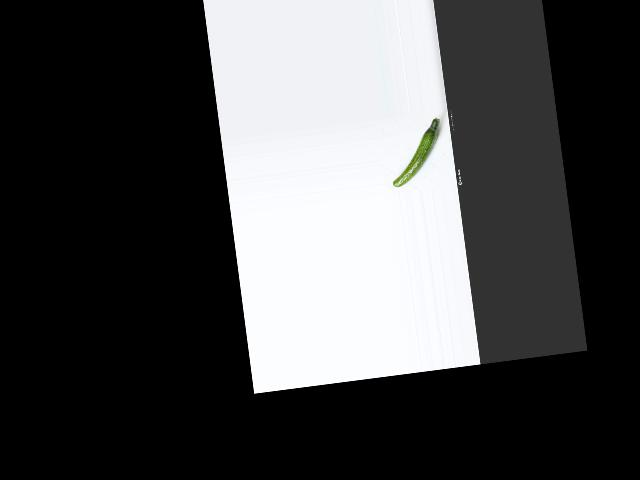cucumber: (385, 116, 447, 187)
